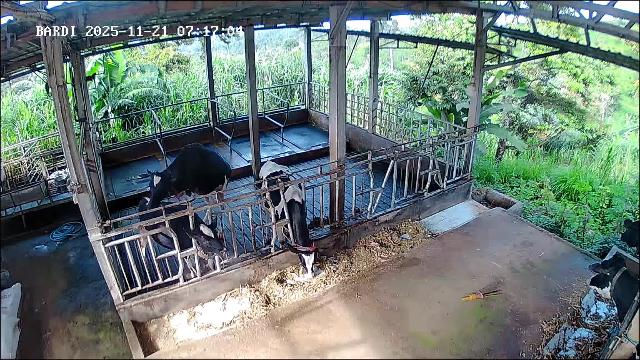mounting: (147, 143, 228, 239)
